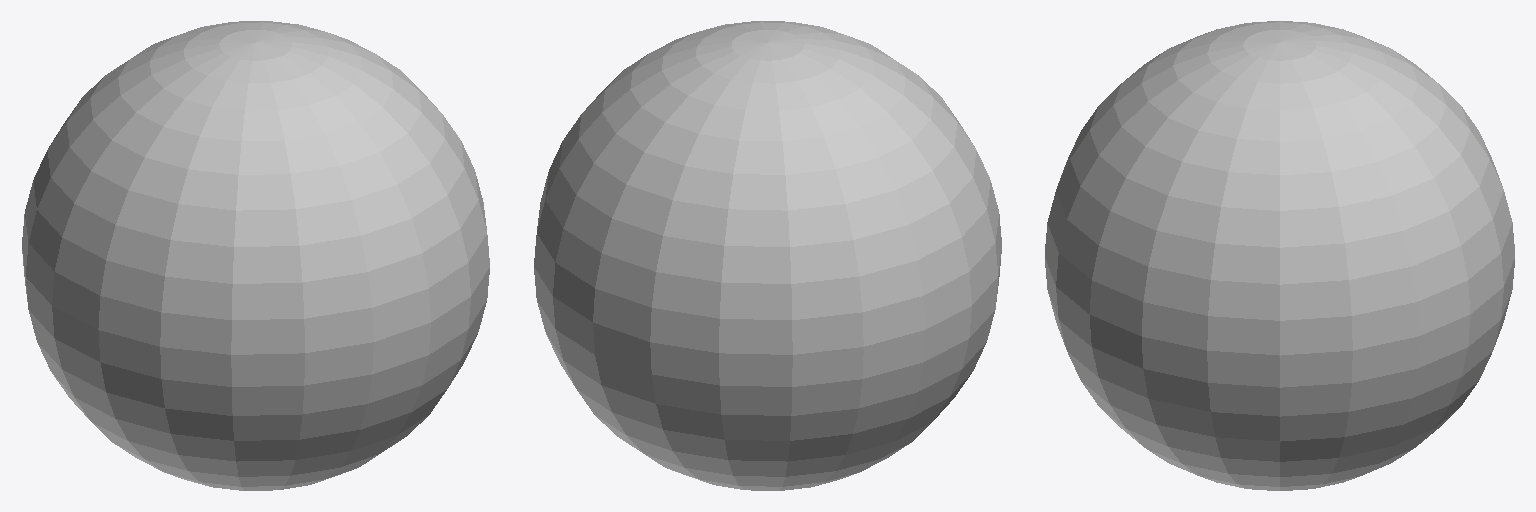
The model's file is small_sphere.obj.
The picture shows the model from 3 angles: view 1: azimuth 30°, elevation 25°; view 2: azimuth 150°, elevation 25°; view 3: azimuth 270°, elevation 25°; orthographic projection.
Parts seen in each view (by area): view 1: small_sphere; view 2: small_sphere; view 3: small_sphere.
Boxes of the visible parts, x1=… form: small_sphere: x1=22, y1=21, x2=489, y2=490; small_sphere: x1=534, y1=21, x2=1001, y2=490; small_sphere: x1=1045, y1=21, x2=1514, y2=490.
Size of the model in its own units: 0.0531 by 0.0531 by 0.0531.